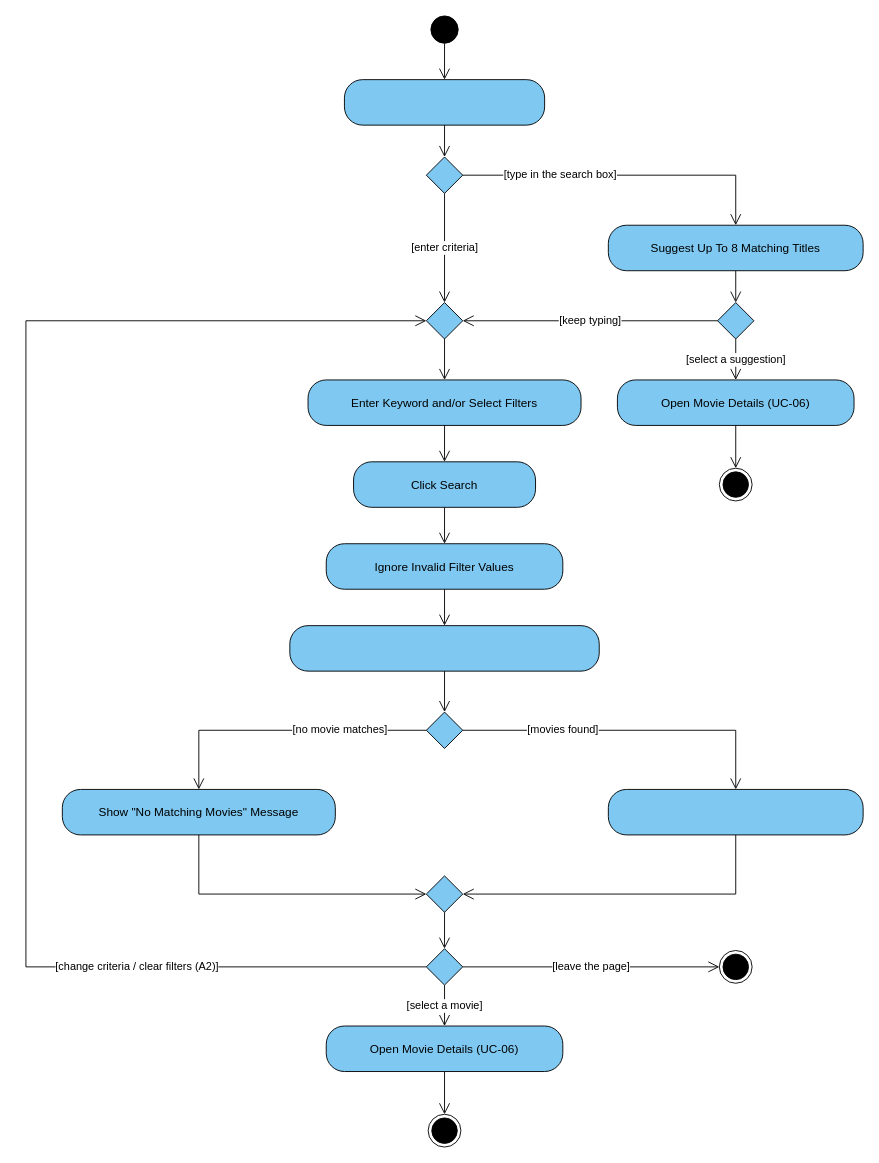
This 879x1163 diagram has some shape labels left out. Each missing label, with the centre of its shape:
"Find Public Movies Matching All Criteria" goes at pixel 444 648.
"Open Movies Page" goes at pixel 444 102.
"Show Count and Movies in Tabs" goes at pixel 735 812.
